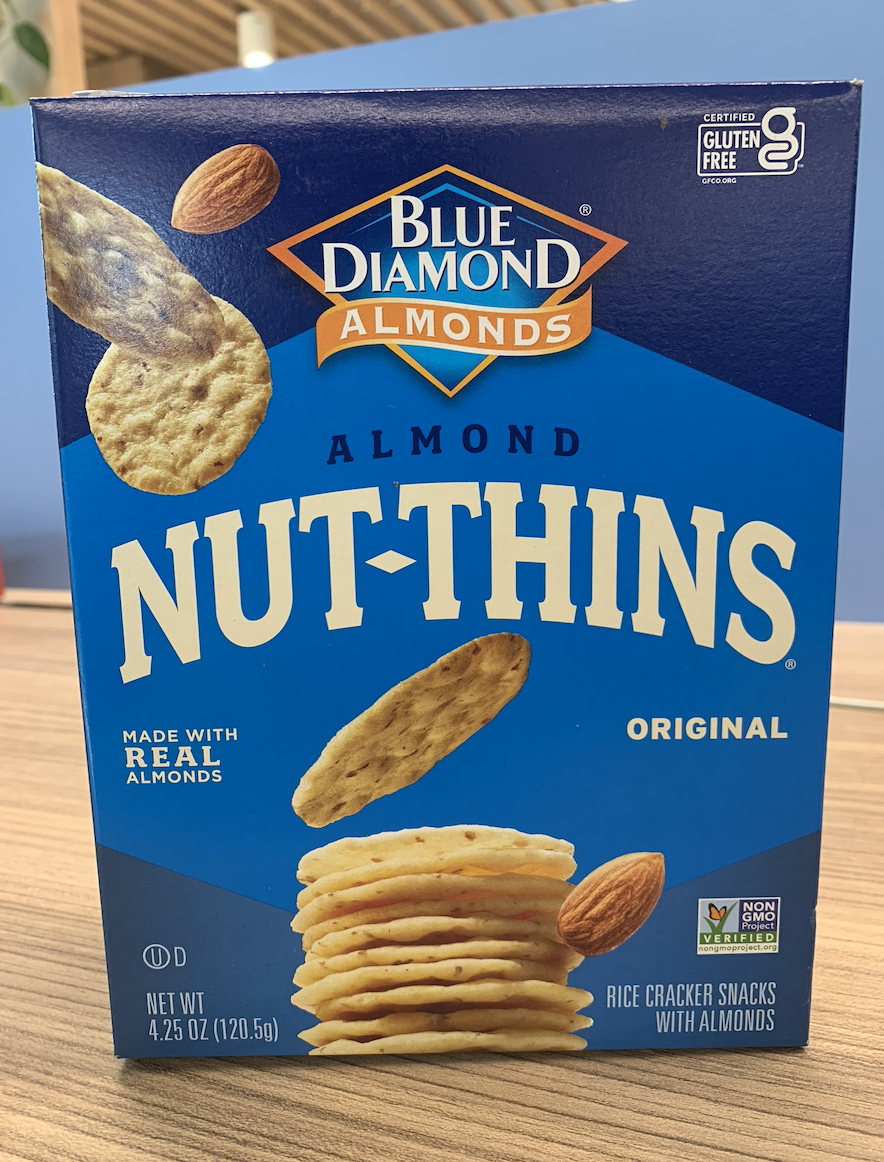crackers_150g: (99, 120, 806, 1055)
